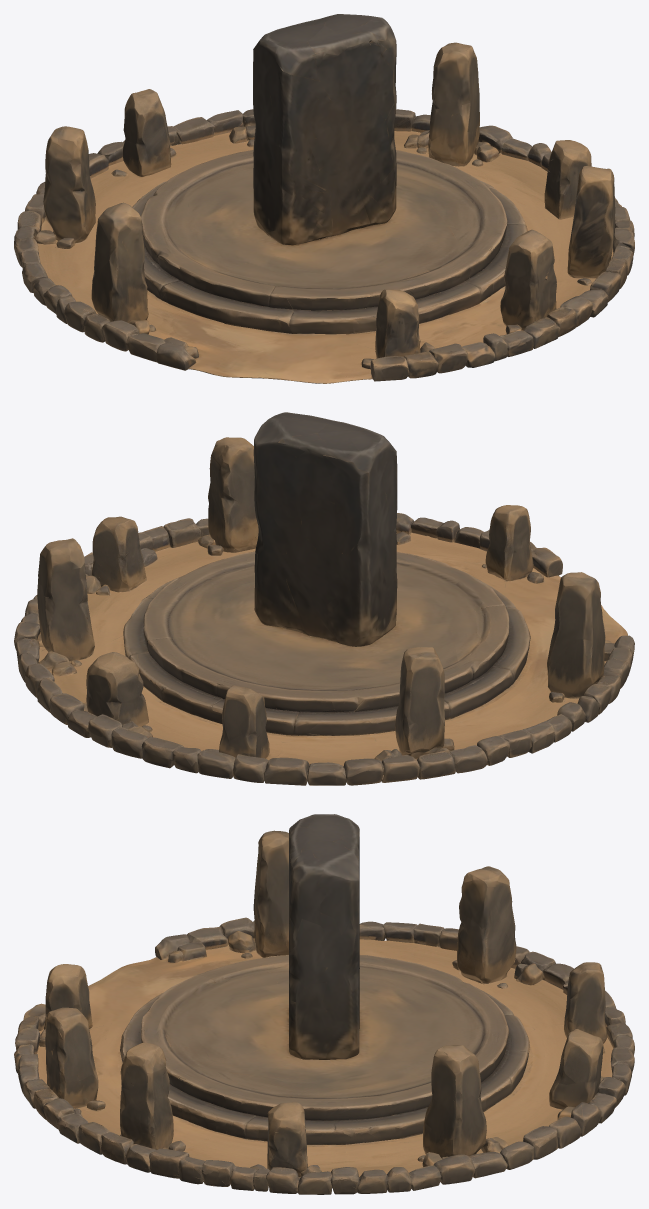
File: sanctuary-hero.glb
3 views of the same model, one above another, from view 1: azimuth 30°, elevation 25°; view 2: azimuth 150°, elevation 25°; view 3: azimuth 270°, elevation 25° (orthographic).
Visible parts, largest first — view 1: mesh_node; view 2: mesh_node; view 3: mesh_node.
Part boxes in pixels (x1,y1,x2,y2): mesh_node: (14,14,634,383); mesh_node: (14,412,634,785); mesh_node: (14,814,634,1194).
Bounding box in the file's own units: 1.9 × 0.7715 × 1.9.
Materials: 1 (1 with a texture image).
